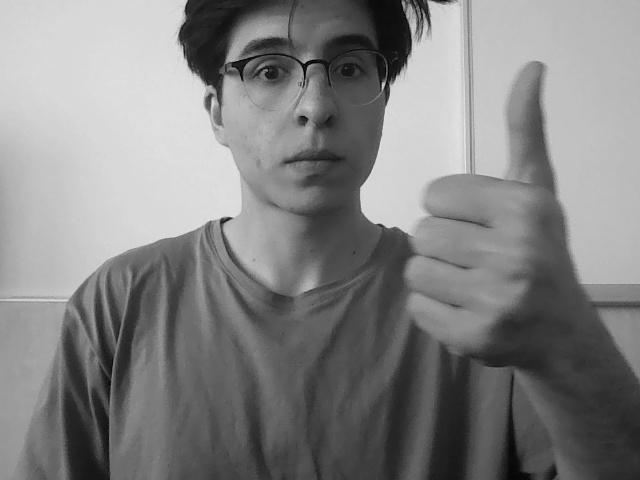good: (384, 58, 564, 375)
